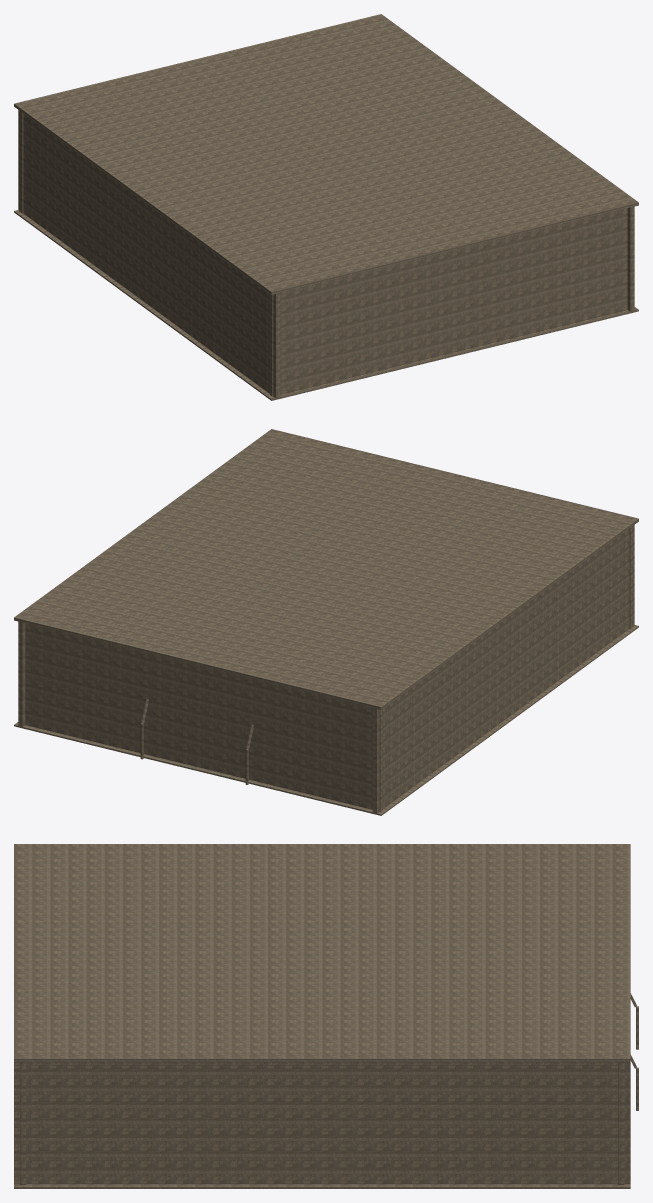
Rendered from cathedral.glb.
The picture shows the model from 3 angles, top to bottom: view 1: azimuth 30°, elevation 25°; view 2: azimuth 150°, elevation 25°; view 3: azimuth 270°, elevation 25°; orthographic projection. The views are drawn at different scales.
Parts seen in each view (by area): view 1: High vault canopy, Entry wall, Aisle wall, Nave flagstones, Aisle wall.001; view 2: High vault canopy, Apse wall, Aisle wall, Nave flagstones, Aisle wall.001; view 3: High vault canopy, Aisle wall.001, Nave flagstones, Apse wall, Entry wall.
Boxes of the visible parts, x1=… form: High vault canopy: x1=14, y1=14, x2=638, y2=294; Entry wall: x1=270, y1=208, x2=627, y2=396; Aisle wall: x1=18, y1=110, x2=280, y2=398; Nave flagstones: x1=14, y1=210, x2=638, y2=400; Aisle wall.001: x1=627, y1=206, x2=634, y2=311; High vault canopy: x1=14, y1=429, x2=638, y2=709; Apse wall: x1=25, y1=623, x2=382, y2=811; Aisle wall: x1=372, y1=525, x2=634, y2=813; Nave flagstones: x1=14, y1=625, x2=638, y2=815; Aisle wall.001: x1=18, y1=620, x2=25, y2=726; High vault canopy: x1=14, y1=844, x2=630, y2=1062; Aisle wall.001: x1=14, y1=1062, x2=630, y2=1184; Nave flagstones: x1=14, y1=1184, x2=630, y2=1188; Apse wall: x1=618, y1=1062, x2=624, y2=1184; Entry wall: x1=20, y1=1062, x2=26, y2=1184.
Bounding box in the file's own units: 56 × 15.86 × 68.92.
Materials: 11 (3 with a texture image).
